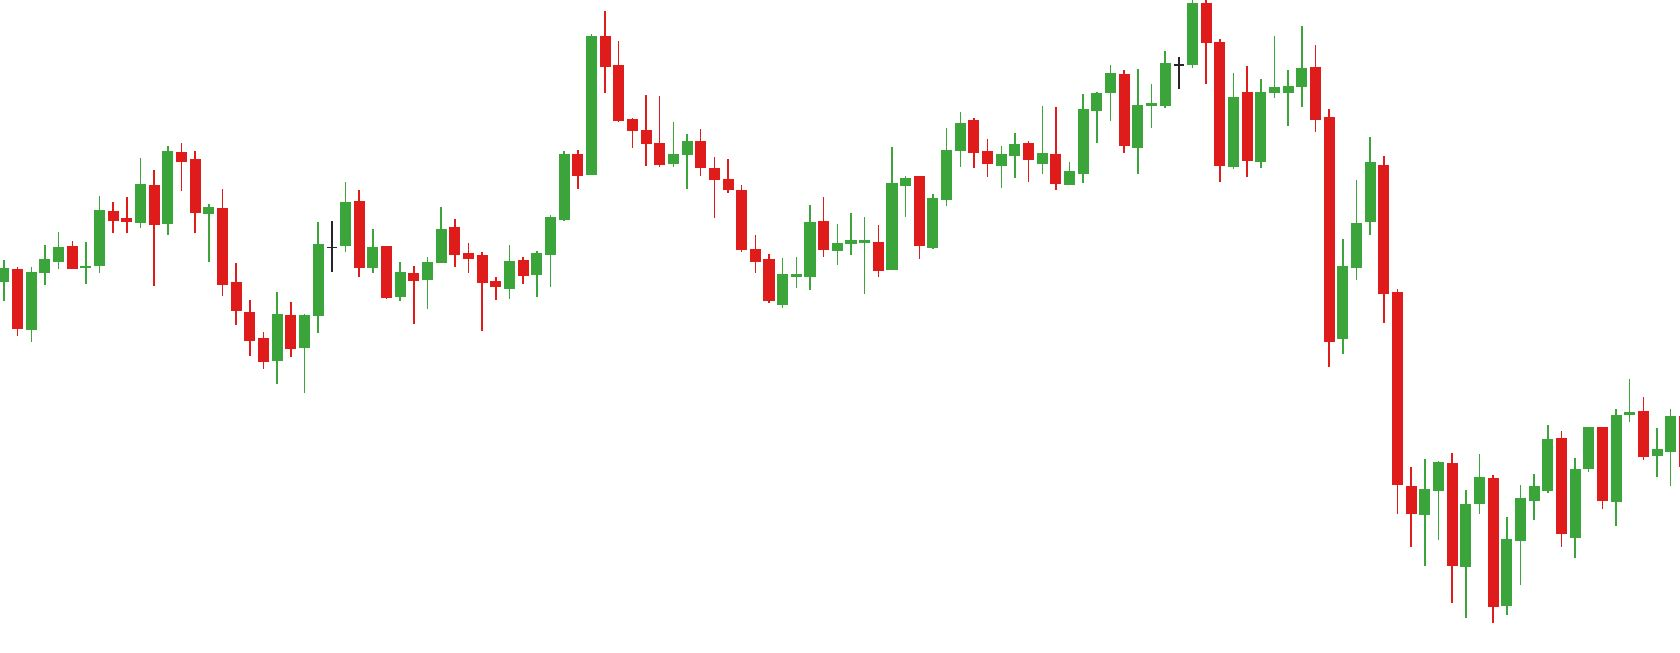buy: (9, 228, 287, 390), (408, 244, 490, 333)
